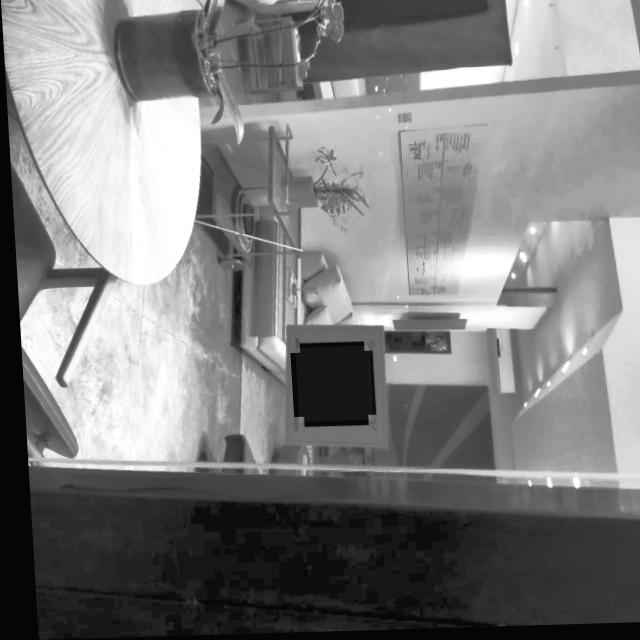qr_code: (290, 348, 367, 424)
